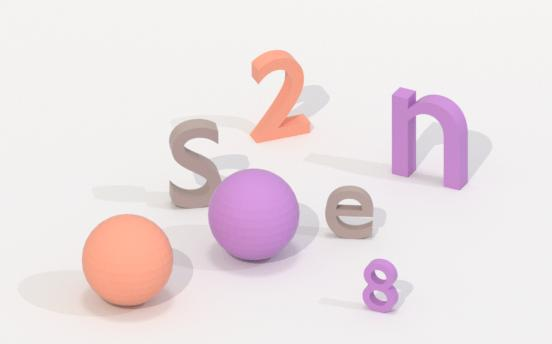2: (247, 43, 317, 152)
8: (357, 256, 401, 317)
cau: (207, 166, 300, 262), (85, 213, 178, 306)
e: (322, 186, 381, 241)
n: (386, 87, 483, 197)
s: (166, 114, 222, 210)
